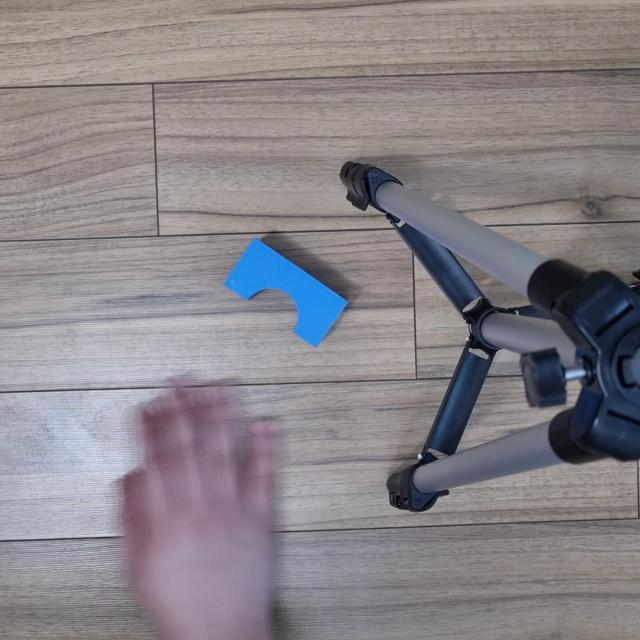block: (214, 228, 358, 349)
hand: (129, 381, 309, 640)
